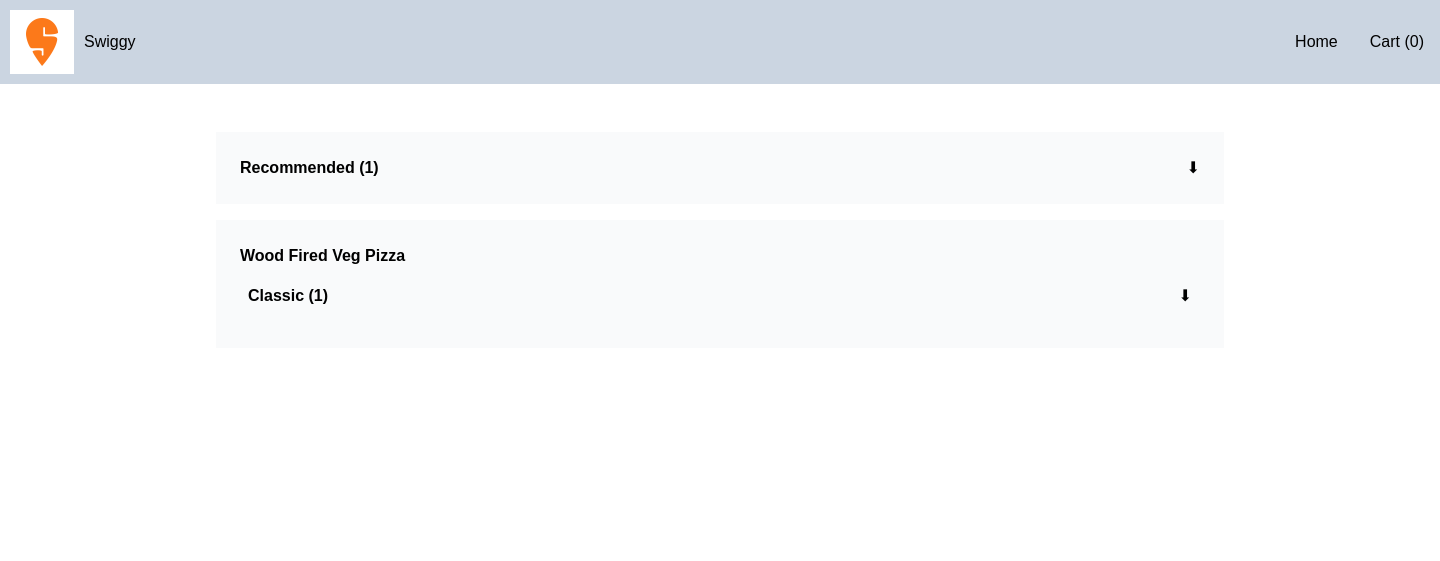
Scenario: Should display restaurant menu items
This screenshot has width=1440, height=561.
Click the heading "Classic (1)". click: (288,296)
box: [248, 284, 328, 308]
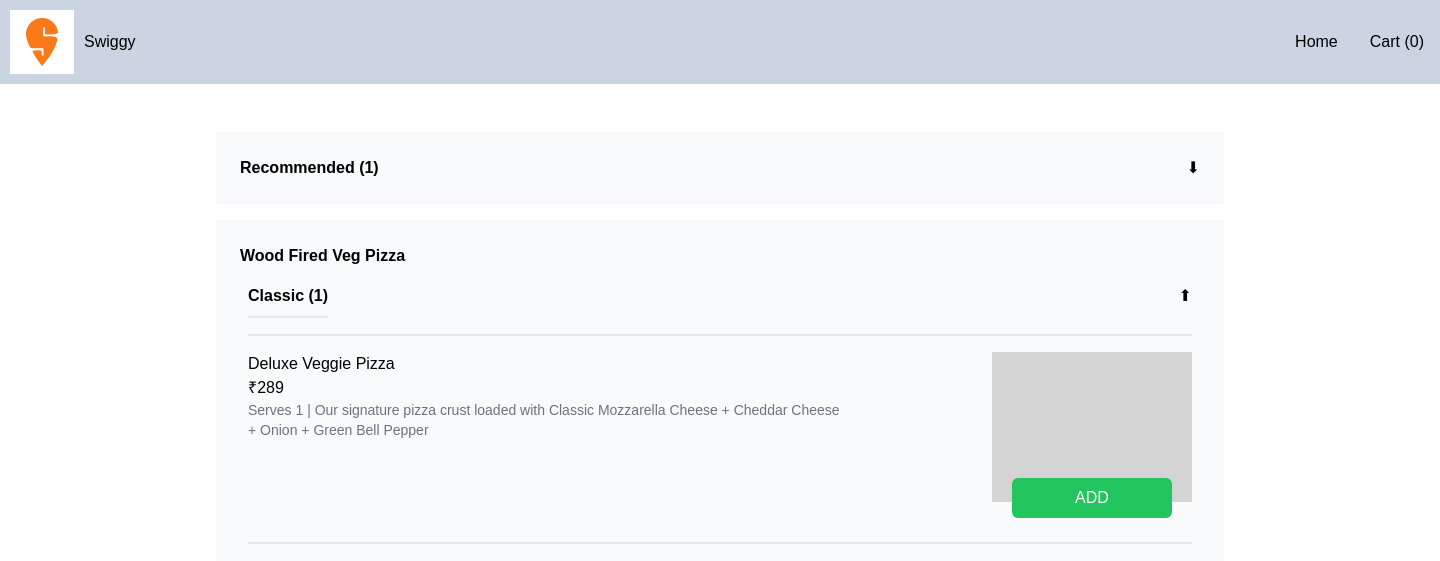
expect the heading "Deluxe Veggie Pizza" is shown: met, box [248, 352, 395, 376]
